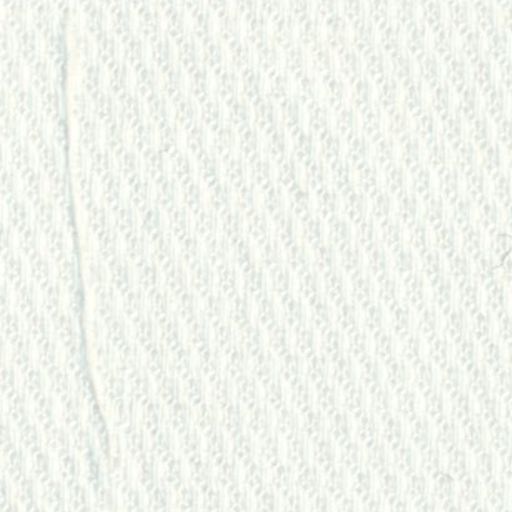DuanSha: (46, 6, 128, 470)
